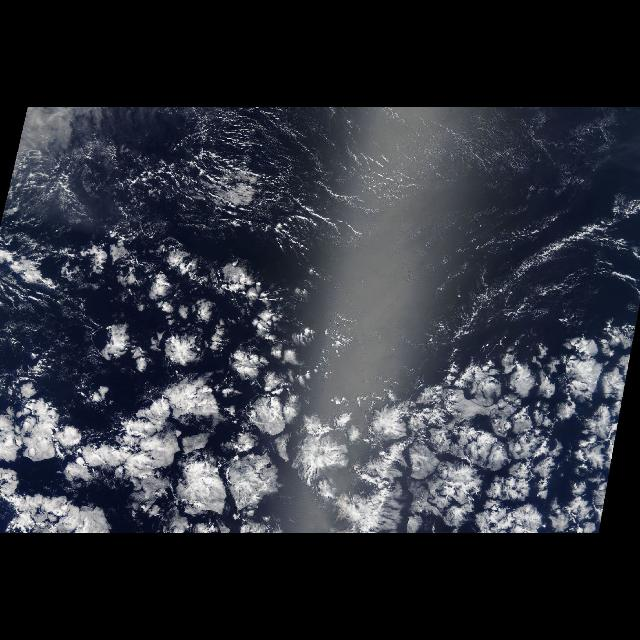Sugar: (68, 246, 594, 528)
